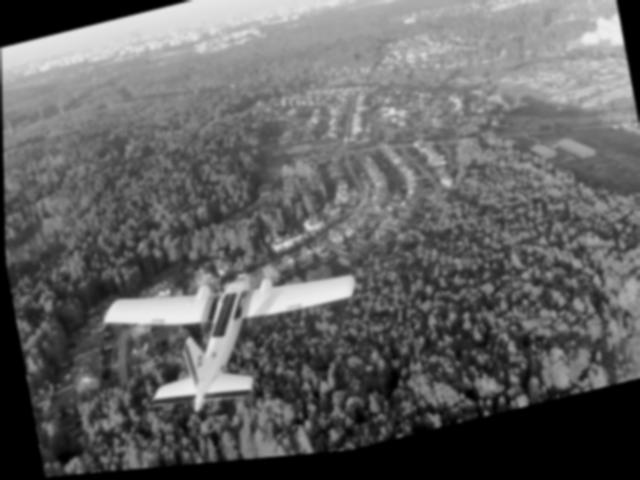hedef: (84, 239, 372, 438)
